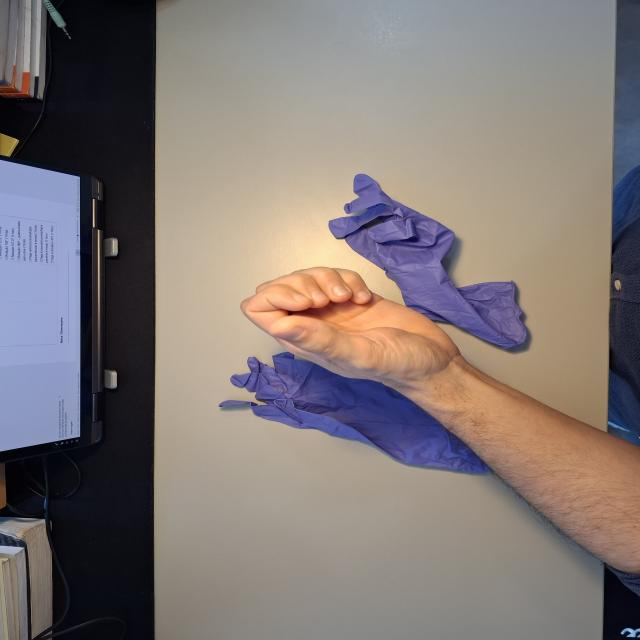glove_off: (238, 264, 467, 385)
